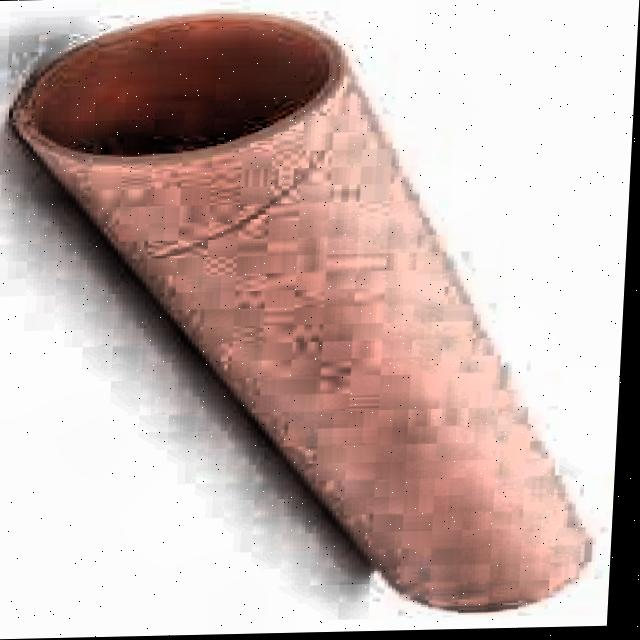cardboard: (0, 6, 624, 624)
